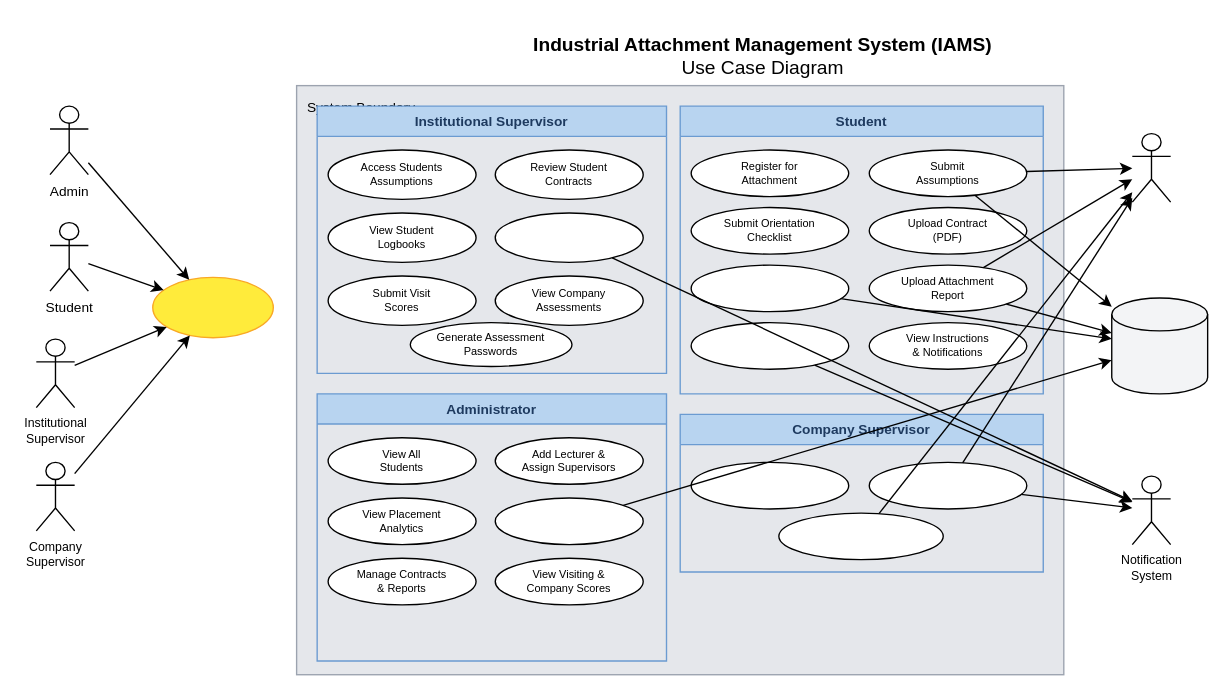
This 1232x699 diagram has some shape labels left out. The shapes that lost their labels are listed below. From the top down, each one's centre as x and y in pixels, then its label:
the point at 1151,167: Academic Records System
the point at 568,237: Publish Visit Dates & View Selections
the point at 212,307: LOGIN
the point at 769,288: Record & Submit Weekly Logbook
the point at 769,345: Select Visit Dates
the point at 1159,345: Data backup and recovery
the point at 769,485: Enter Assessment Password
the point at 947,485: Submit Student Marks
the point at 568,521: Export Dashboard to PDF
the point at 860,536: Provide Assessment Remarks
